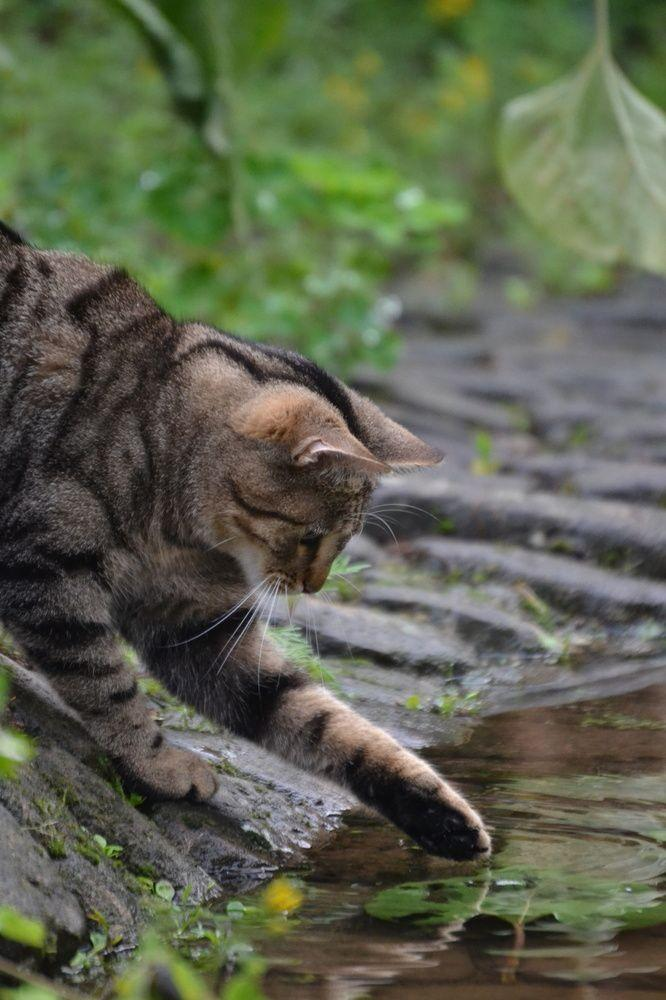kedo: (0, 210, 490, 866)
